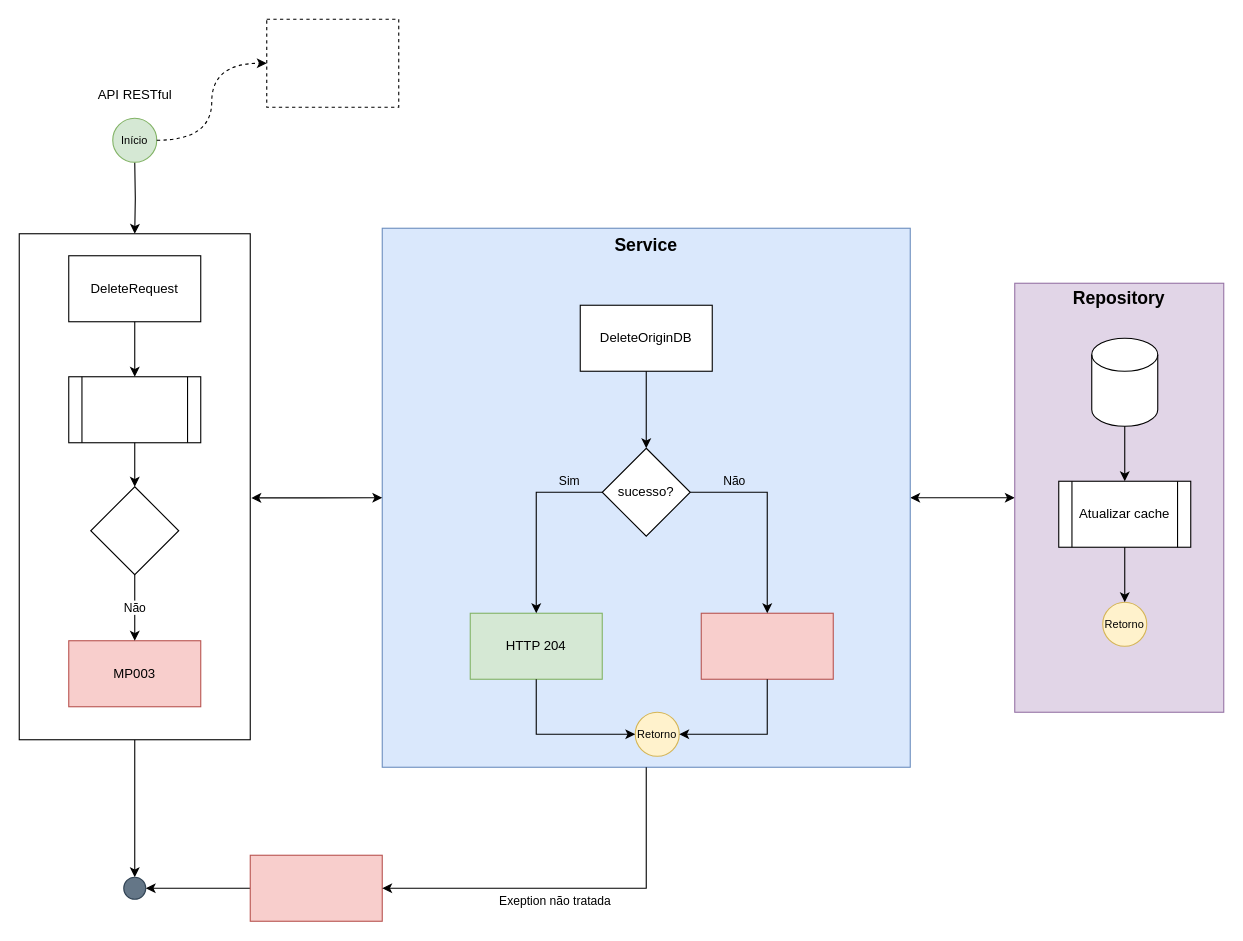
This 1243x941 diagram has some shape labels left out. Here are the shapes that lost their labels. From the top down, the centre of each, then its label:
(x=332, y=62): Request { "id": 1 }
(x=1124, y=381): DB
(x=134, y=409): Validar Entrada
(x=134, y=530): Entrada valida?
(x=766, y=645): MP004
(x=315, y=887): MP001
